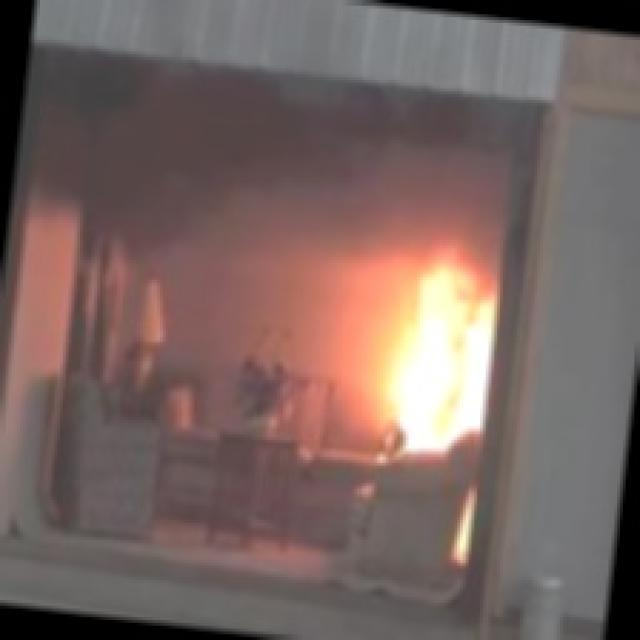fire: (337, 215, 532, 476)
